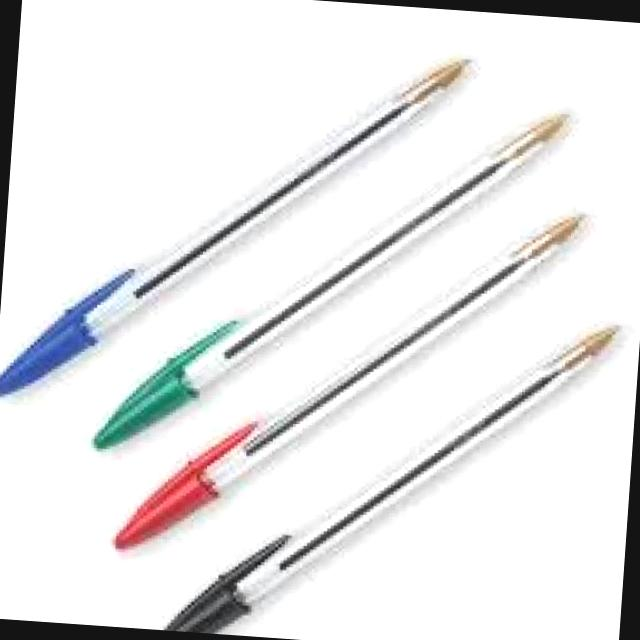Pen - Non Recyclable: (0, 21, 477, 428), (108, 179, 584, 582), (89, 80, 566, 480), (142, 285, 620, 640)
